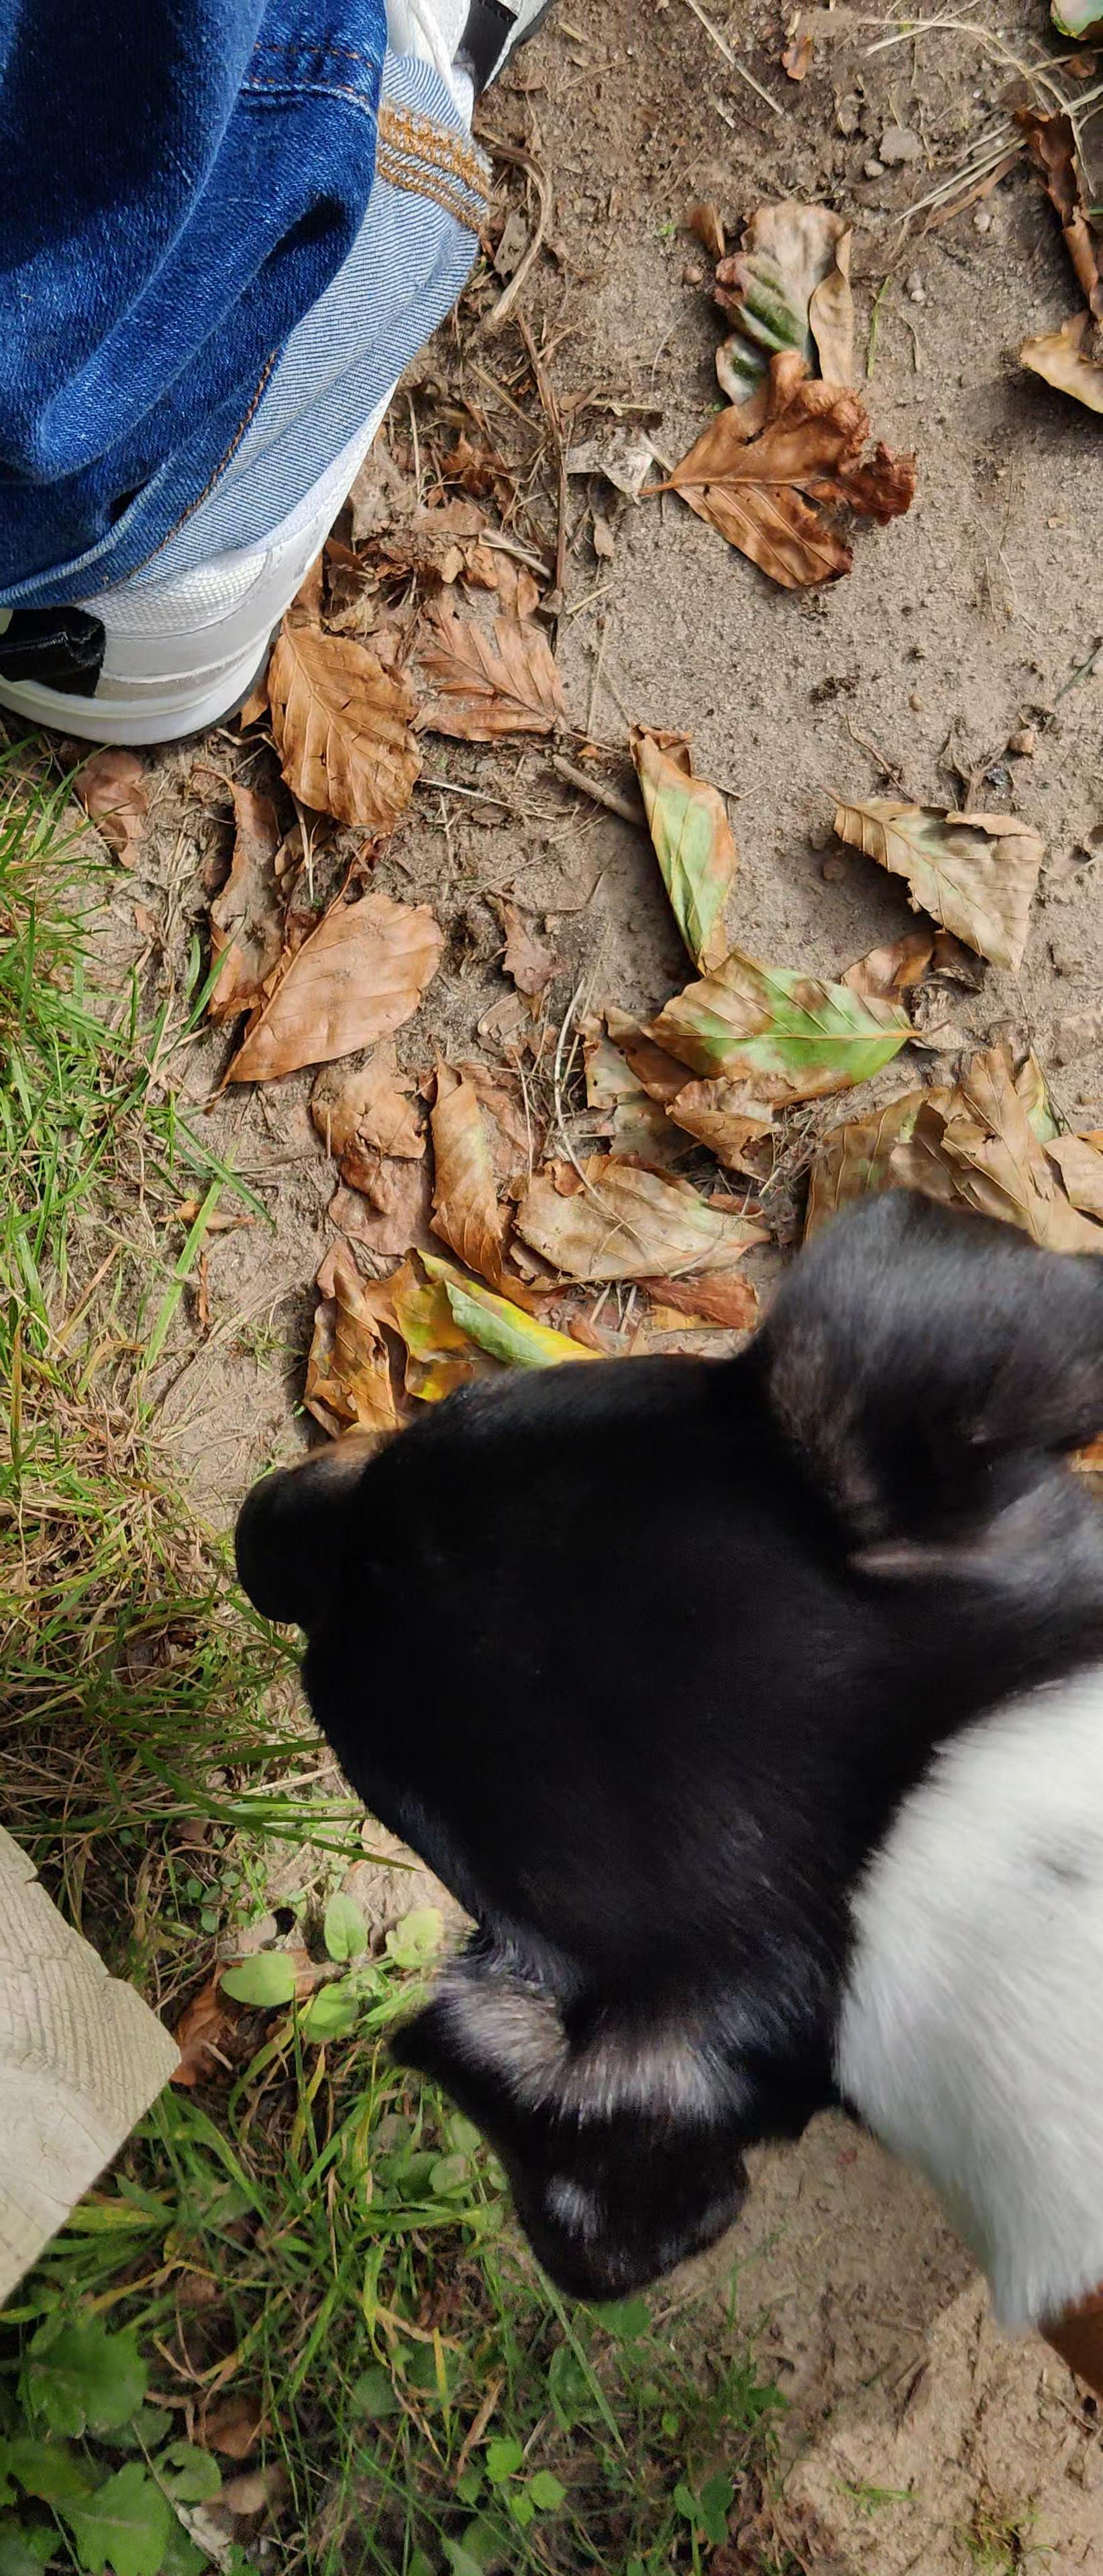Dog: (230, 1173, 1103, 2420)
